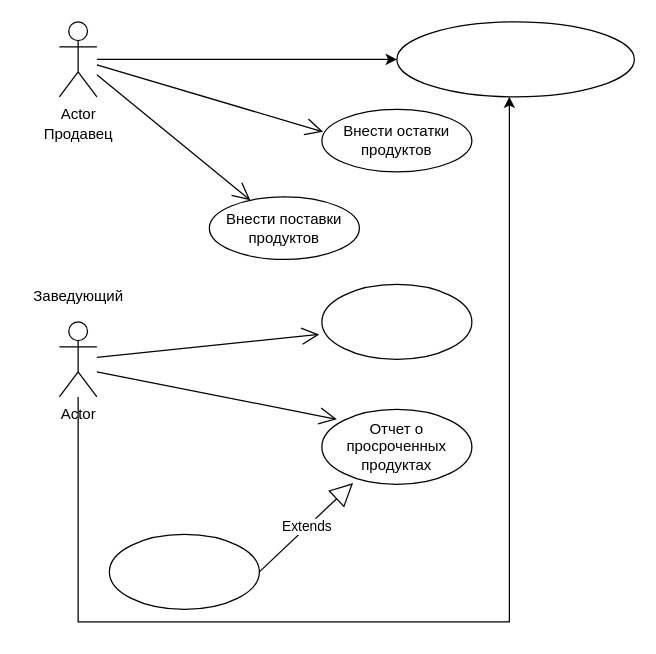
Image size: 656x654. Some labels were removed from this diagram. Here are the shapes that lost their labels. From the top down, the centre of each, then its label:
At pixel 515 59: "Идентификация пользователя".
At pixel 396 321: "Отчет об остатках продуктов".
At pixel 183 571: "Списание просроченных продуктов".
